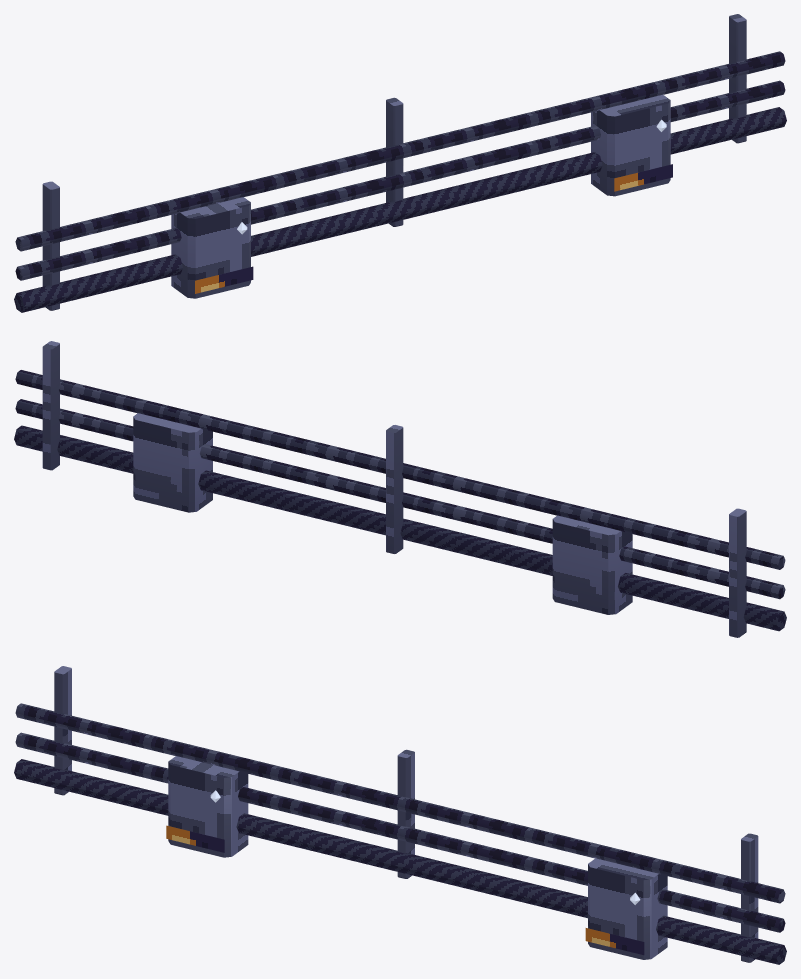
Rendered from cytech.conduit.glb.
The picture shows the model from 3 angles, top to bottom: view 1: azimuth 30°, elevation 25°; view 2: azimuth 150°, elevation 25°; view 3: azimuth 330°, elevation 25°; orthographic projection.
Parts seen in each view (by area): view 1: kit_pipes, kit_card_bands; view 2: kit_pipes; view 3: kit_pipes, kit_card_bands.
Boxes of the visible parts, box(x1,y1,x2,y2) form: kit_pipes: box(14, 14, 786, 312); kit_card_bands: box(195, 164, 672, 293); kit_pipes: box(14, 341, 786, 637); kit_pipes: box(14, 666, 786, 964); kit_card_bands: box(166, 825, 644, 955).
Bounding box in the file's own units: 6 × 0.98 × 0.3546.
Materials: 6 (6 with a texture image).
